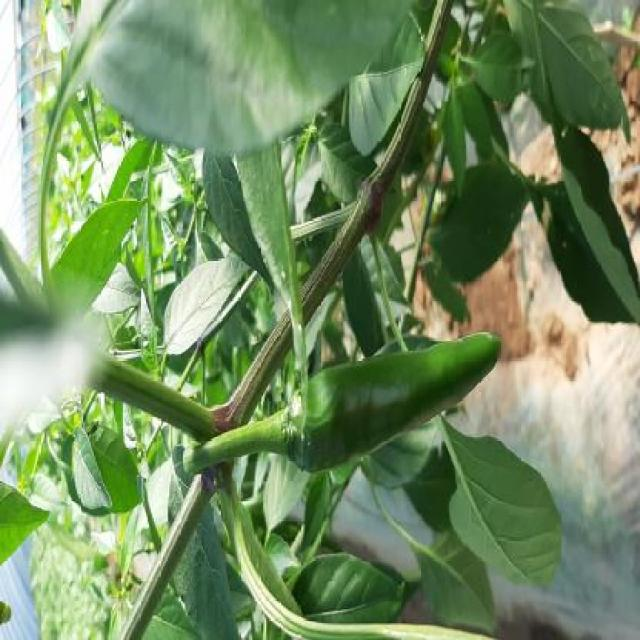green chilli: (229, 331, 502, 474)
